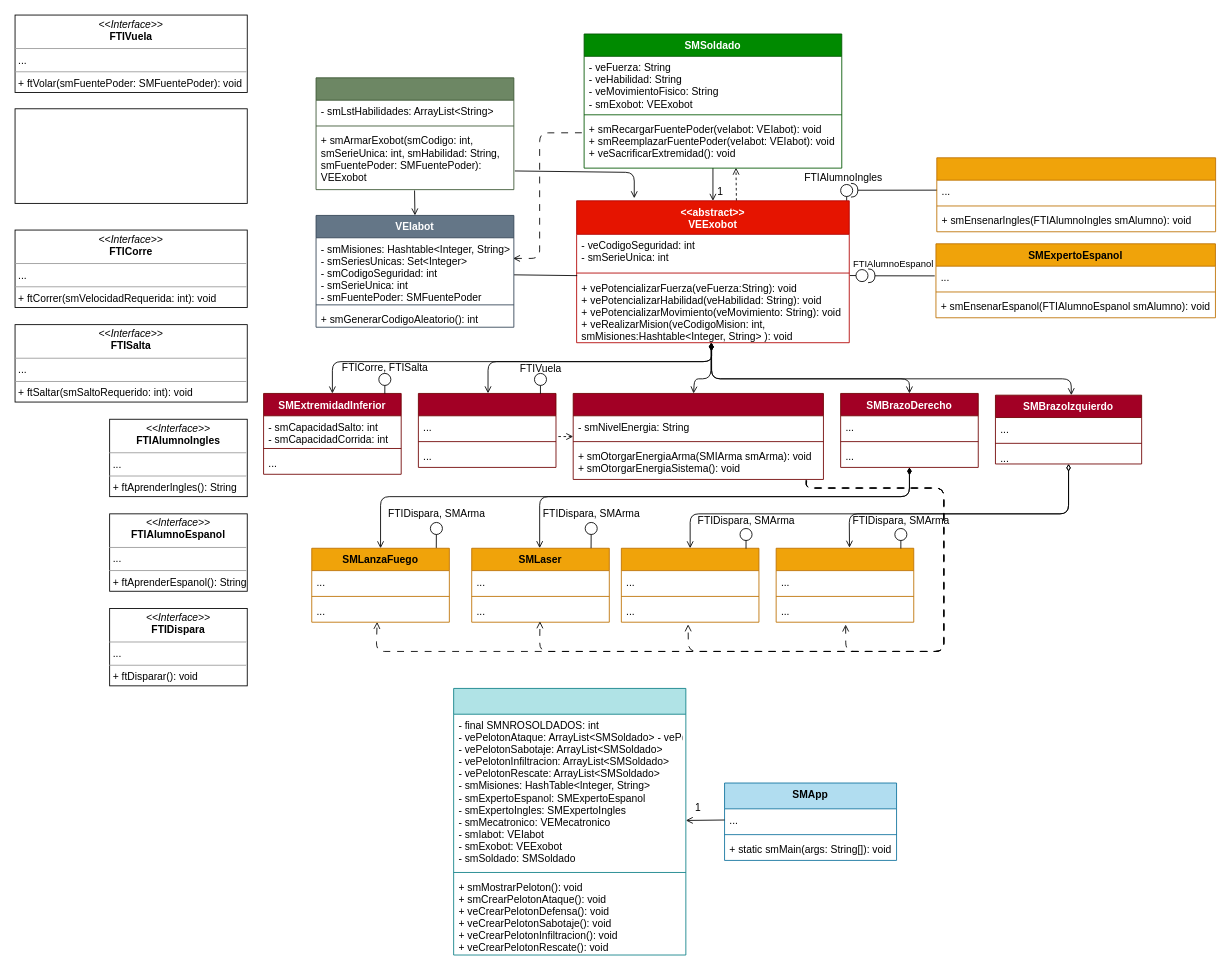
The diagram is 1231 pixels wide and 973 high, and some of its shapes have lost their labels. Here are the shapes that lost their labels. From the top down, the box of each, then its label:
(315, 77, 514, 190): VEMecatronico
(14, 108, 247, 203): <<Interface>> SMIArma ... + smObtenerEnergia(smFuentePoder: SMFuentePoder): void
(936, 157, 1216, 232): SMExpertoIngles
(418, 393, 556, 467): SMTurboReactor
(572, 393, 823, 479): SMFuentePoder
(620, 547, 759, 622): SMMK61
(775, 547, 914, 622): SMBazuca
(453, 688, 686, 955): SMPatBattle
